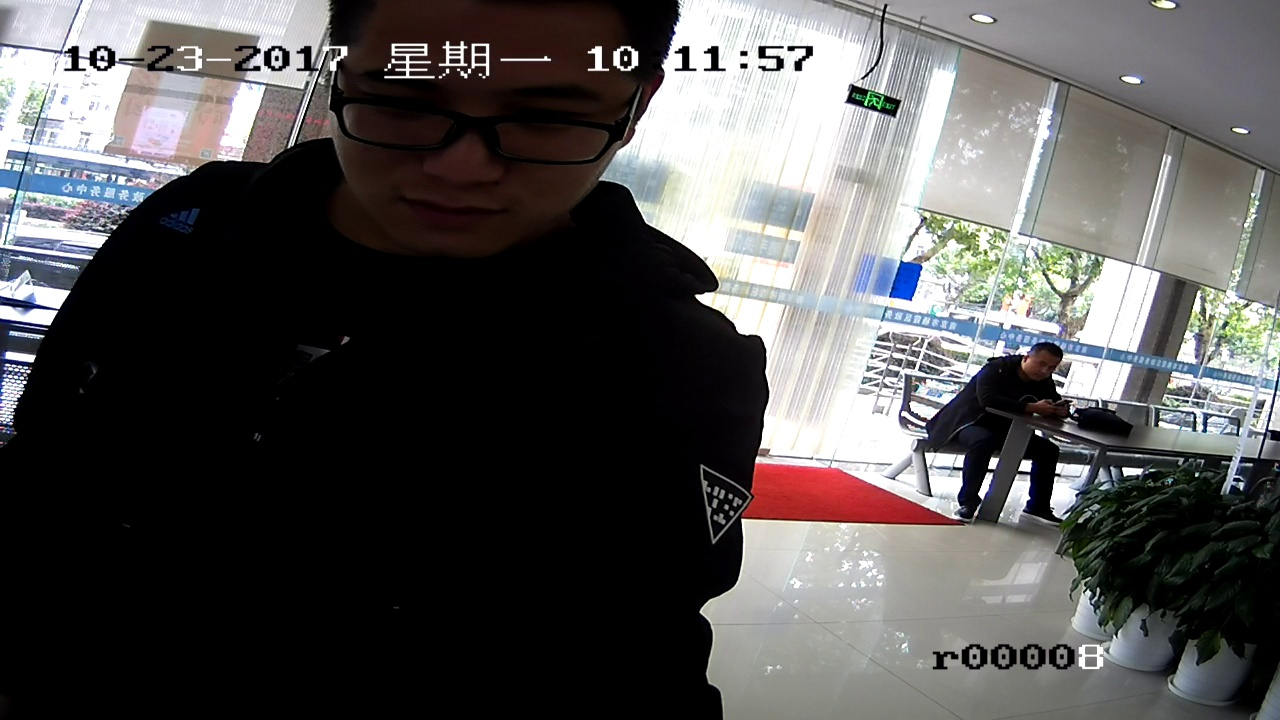chair: (884, 376, 945, 516)
person: (280, 1, 698, 376), (970, 337, 1072, 449)
pot: (1186, 486, 1269, 688), (1096, 485, 1165, 662)
